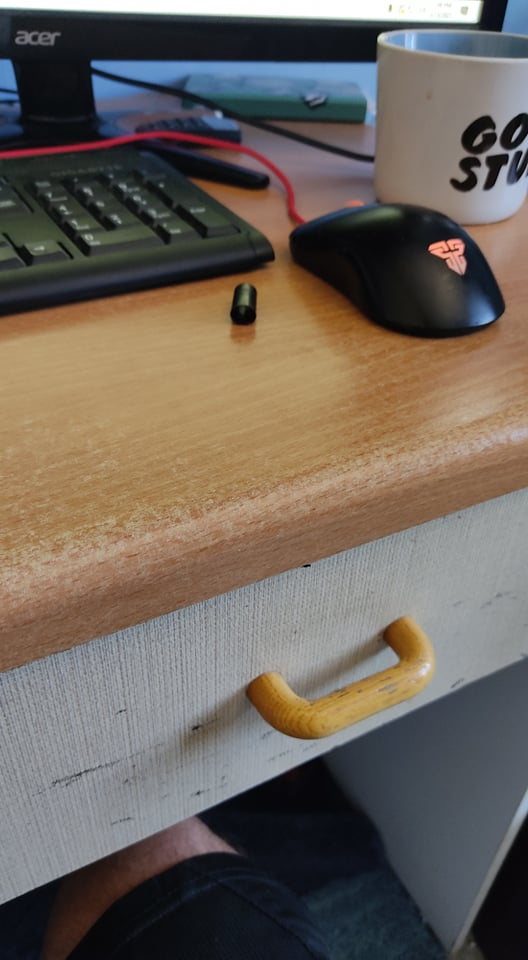black_bucking: (216, 271, 266, 335)
